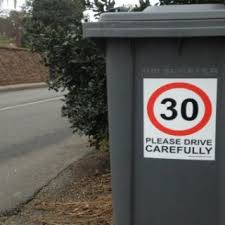Speed_limit_30km: (147, 82, 212, 136)
